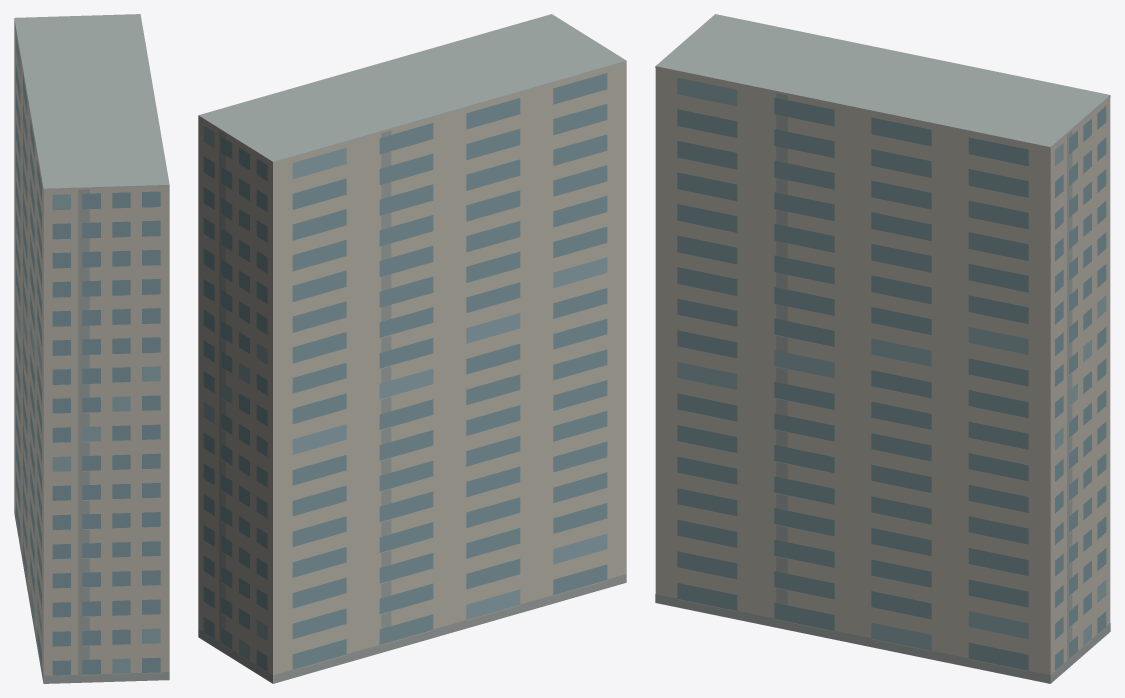
Rendered from residential-2154f956-97f6-44d7-b065-f7ad8f753657.glb.
The picture shows the model from 3 angles, left to right: view 1: azimuth 30°, elevation 25°; view 2: azimuth 150°, elevation 25°; view 3: azimuth 270°, elevation 25°; orthographic projection. The views are drawn at different scales.
Visible parts, largest first — view 1: residential-2154f956-97f6-44d7-b065-f7ad8f753657.tmp; view 2: residential-2154f956-97f6-44d7-b065-f7ad8f753657.tmp; view 3: residential-2154f956-97f6-44d7-b065-f7ad8f753657.tmp.
Part boxes in pixels (x1=…): residential-2154f956-97f6-44d7-b065-f7ad8f753657.tmp: x1=14, y1=14, x2=169, y2=683; residential-2154f956-97f6-44d7-b065-f7ad8f753657.tmp: x1=198, y1=14, x2=626, y2=683; residential-2154f956-97f6-44d7-b065-f7ad8f753657.tmp: x1=655, y1=14, x2=1110, y2=683.
Bounding box in the file's own units: 30.33 × 57 × 43.79.
